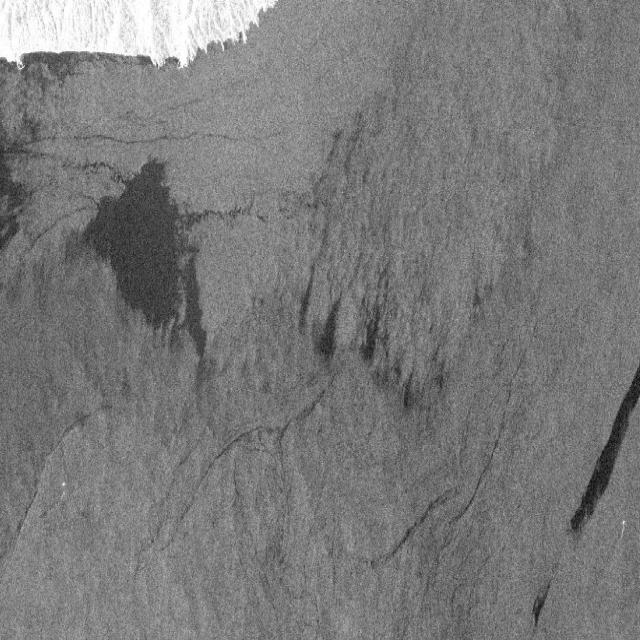look-alike: (82, 148, 214, 364), (299, 266, 440, 421), (462, 346, 524, 518), (362, 491, 456, 587), (2, 134, 33, 256)
oil-spill: (571, 347, 636, 537), (522, 560, 557, 632)
